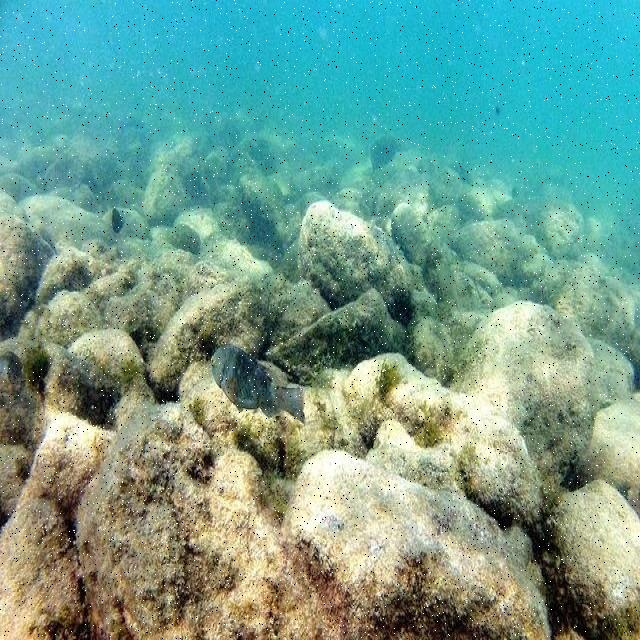fish: (211, 345, 305, 423)
sea-floor: (0, 104, 639, 637), (75, 300, 639, 636)
